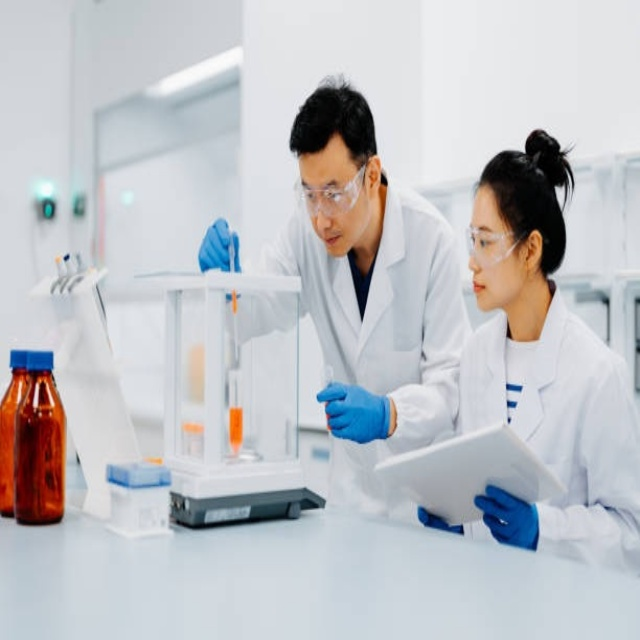Gafas: (295, 160, 368, 217), (465, 224, 531, 266)
Guantes: (319, 375, 393, 447), (475, 478, 540, 551), (197, 215, 245, 275)
Sin_mascara: (466, 268, 503, 309), (316, 227, 355, 257)
